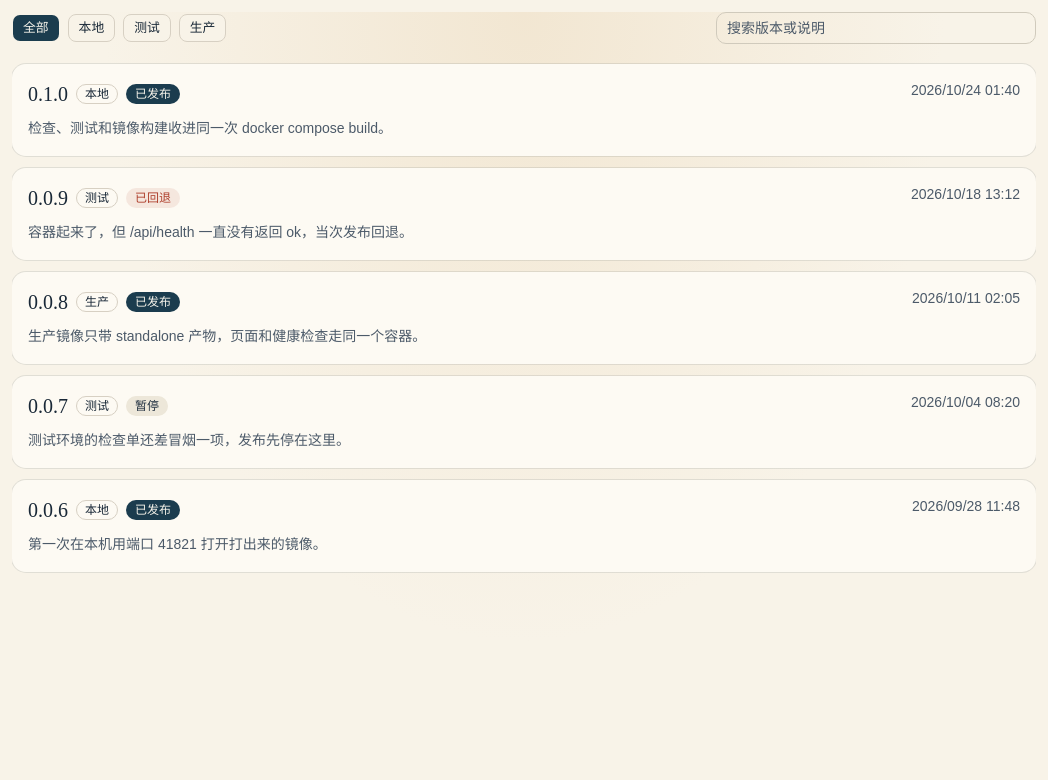
Test case: ReleaseBoard › filters to a single environment
This screenshot has width=1048, height=780.
Click the button "生产" at (203, 28), box [179, 14, 226, 42]
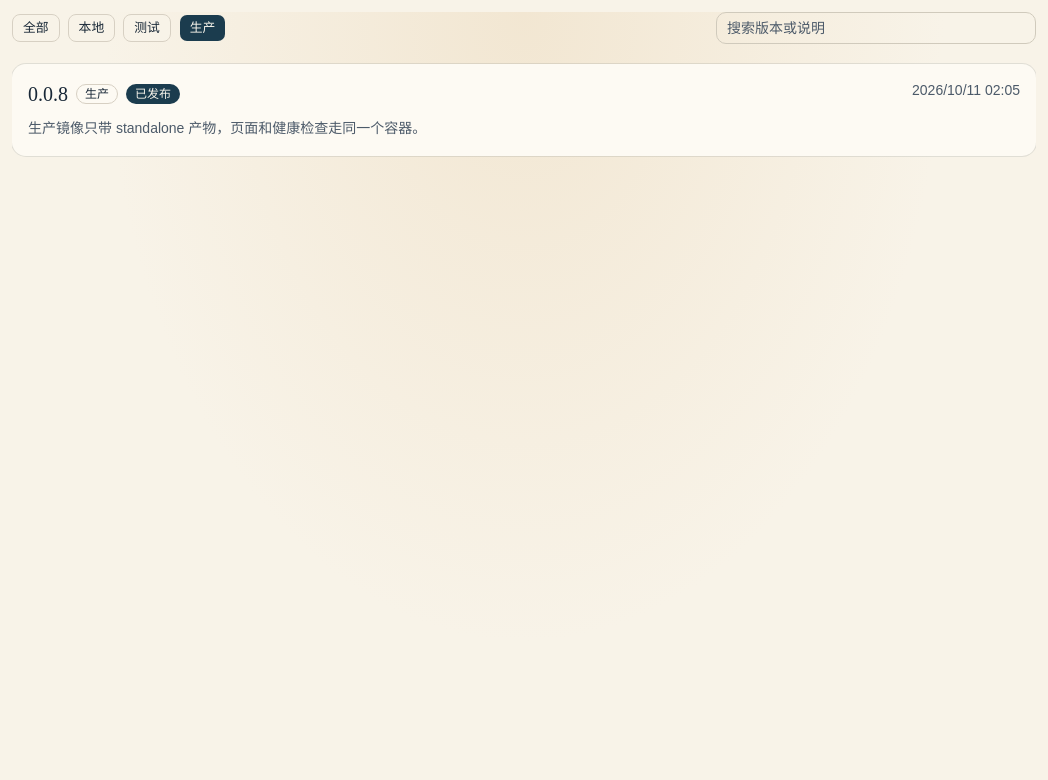
Expected: the heading "0.0.8" is shown, [28, 80, 68, 108]
Expected: the heading "0.1.0" is gone
